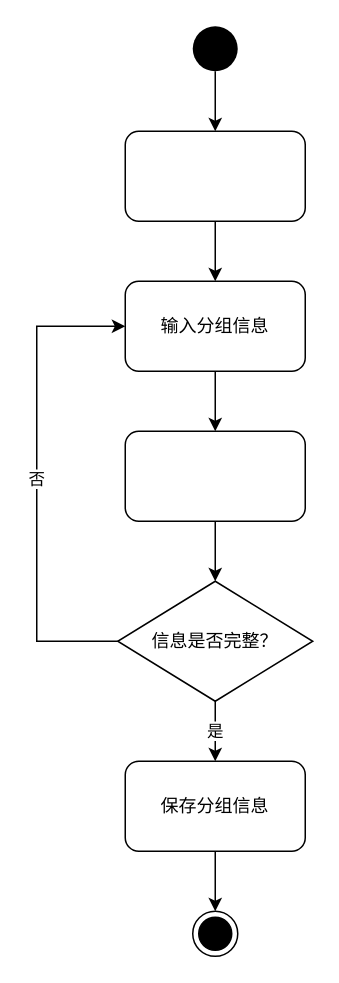
Some shapes in this 339 by 983 pixel diagram are drawn without their labels. Each missing label, with the box of its shape:
添加采集管信息: (124, 430, 305, 521)
选择分组类型: (124, 130, 305, 221)
